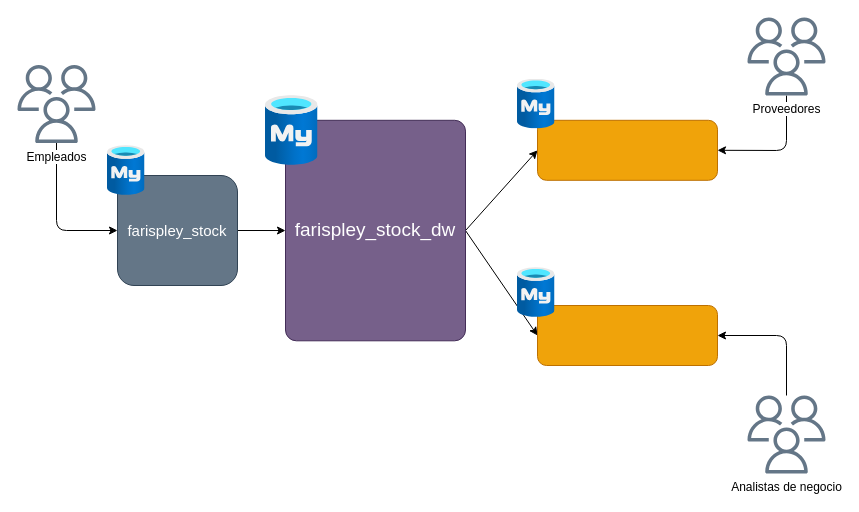
The diagram is 859 pixels wide and 512 high, and some of its shapes have lost their labels. Each missing label, with the centre of its shape:
"farispley_dm_proveedores" goes at [627,149].
"farispley_dm_scanning" goes at [627,335].
